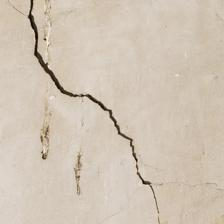Crack: (0, 60, 68, 157), (59, 0, 103, 84), (9, 0, 26, 178), (32, 26, 165, 42), (67, 16, 91, 81)
